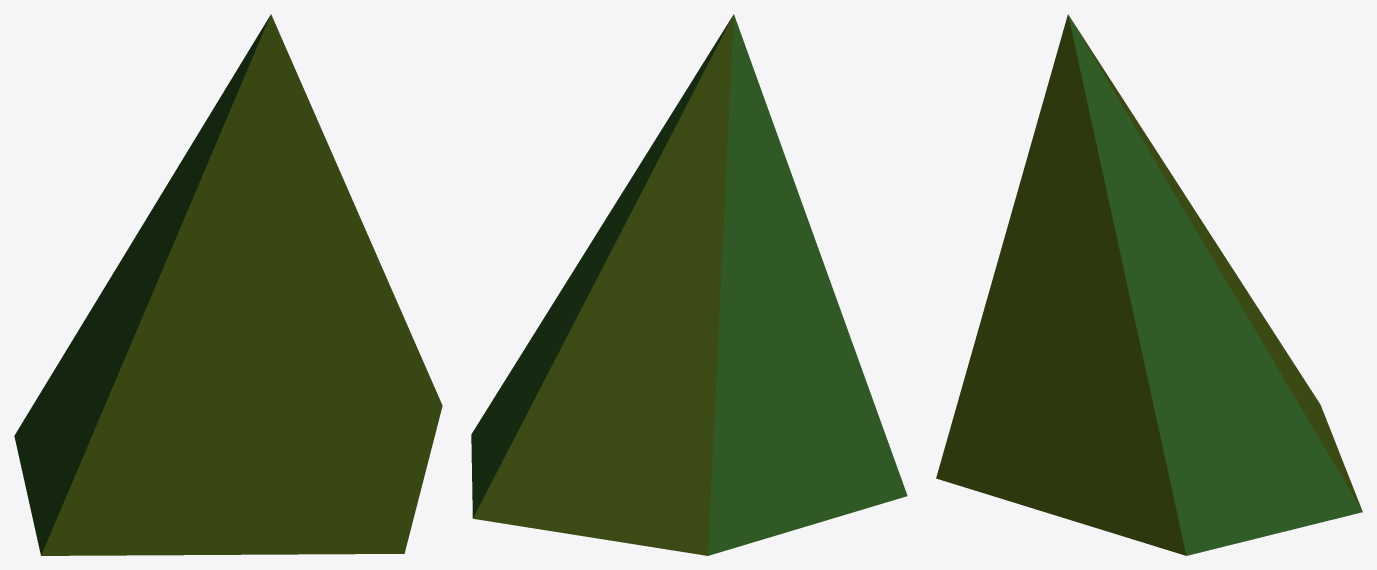
File: Tree2_M1_1_small.fbx
3 views of the same model, side by side, from view 1: azimuth 30°, elevation 25°; view 2: azimuth 150°, elevation 25°; view 3: azimuth 270°, elevation 25° (orthographic). The views are drawn at different scales.
Parts seen in each view (by area): view 1: Tree2_M1_1_small; view 2: Tree2_M1_1_small; view 3: Tree2_M1_1_small.
Boxes of the visible parts, x1,y1,x2,y2 form: Tree2_M1_1_small: (14,14,442,555); Tree2_M1_1_small: (471,14,907,555); Tree2_M1_1_small: (936,14,1362,555).
Bounding box in the file's own units: 47.45 × 49.73 × 43.79.
